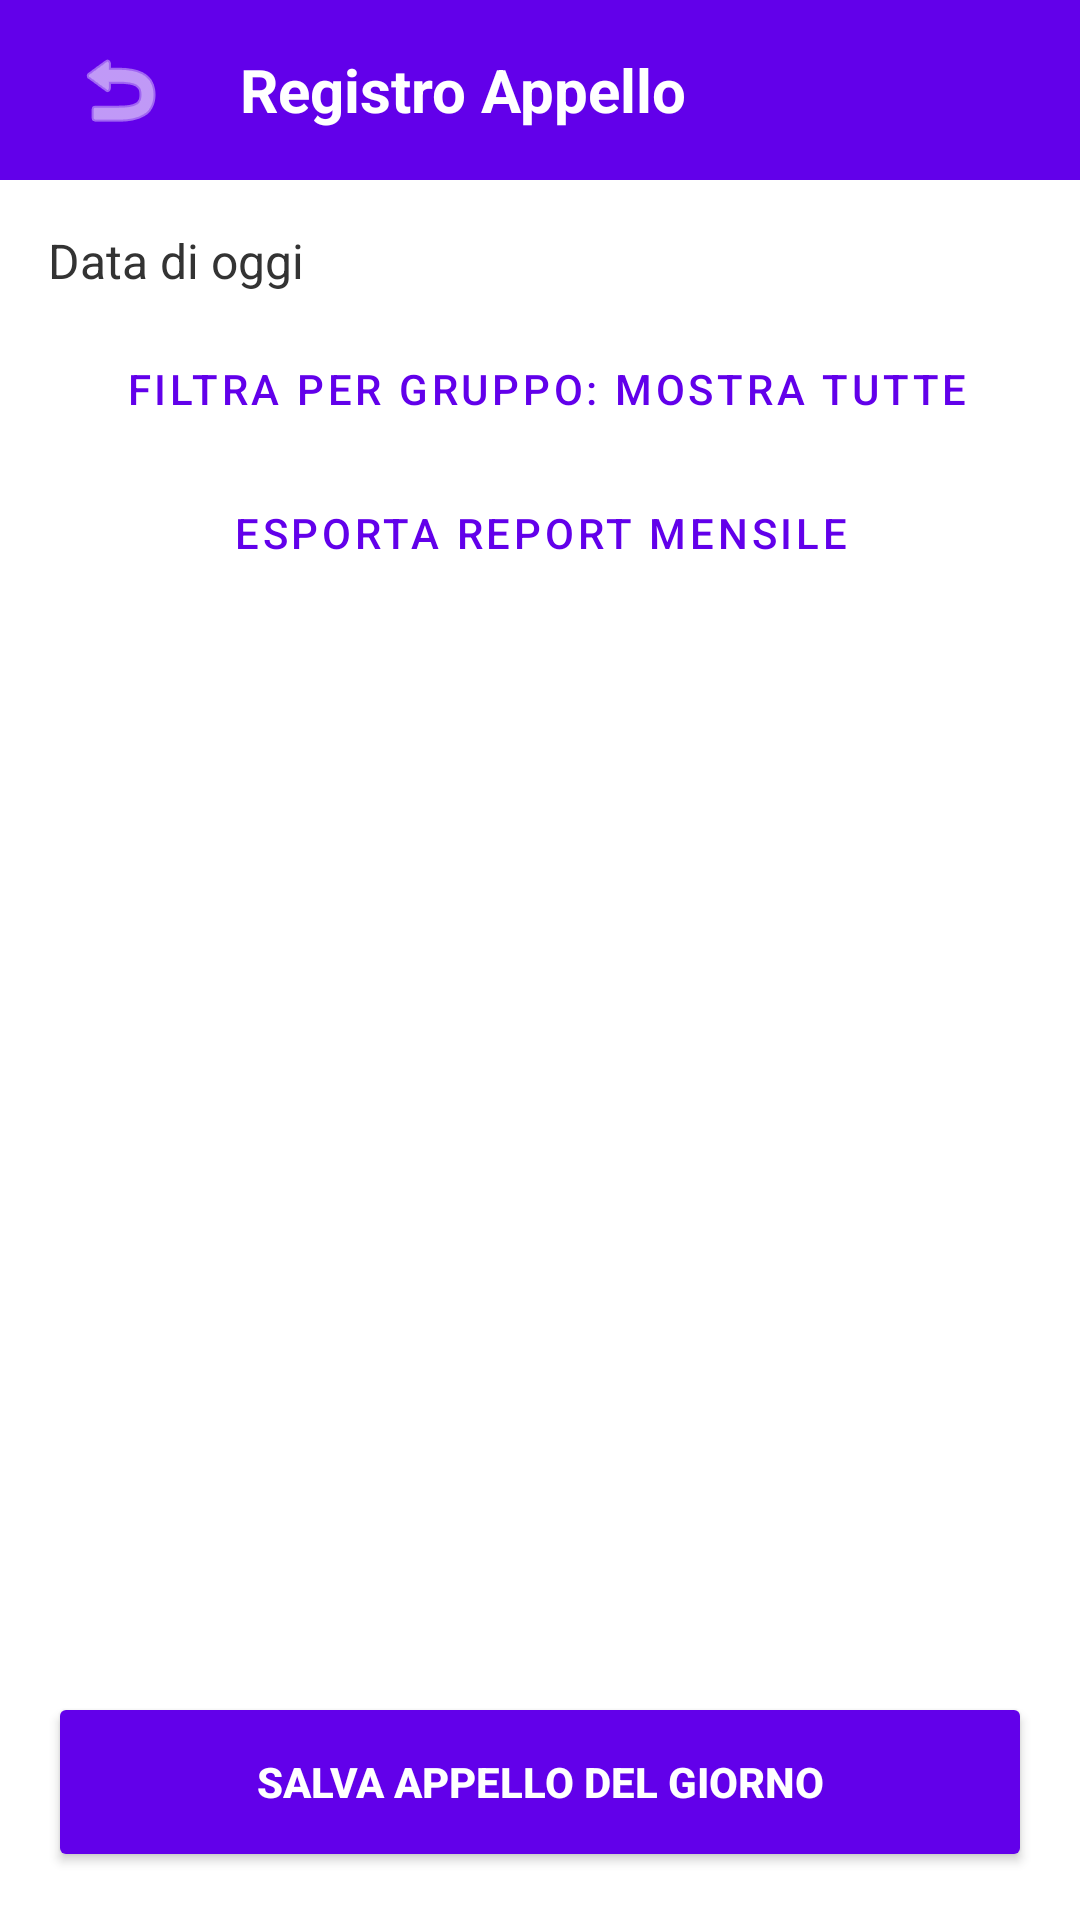

Point at icon controls on the screen. Image size 1080 × 1920, points as (x=x, y=y).
Torna indietro: (x=121, y=90)
